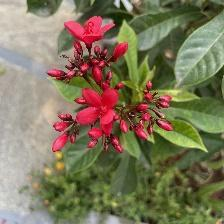jatropha: (81, 87, 118, 136)
